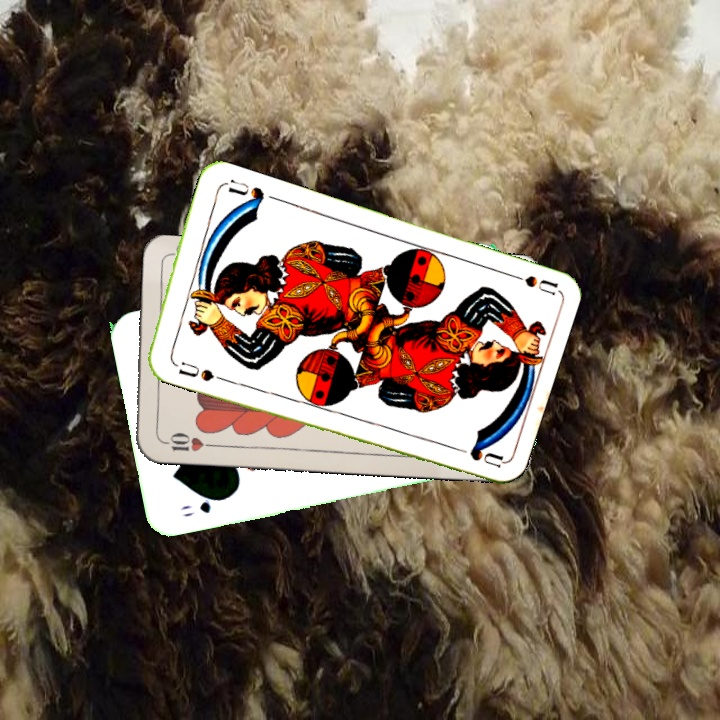GO: (177, 493, 228, 520)
H10: (157, 429, 216, 454)
SU: (499, 267, 558, 297), (174, 357, 217, 384)
